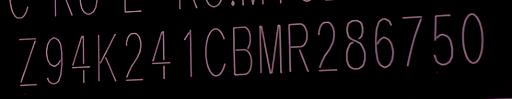letter: (257, 23, 283, 74), (202, 26, 228, 77), (460, 12, 484, 65), (400, 14, 424, 67), (372, 16, 396, 69), (343, 18, 367, 71), (230, 26, 254, 77), (15, 37, 39, 88), (432, 13, 454, 66), (316, 19, 338, 72), (288, 23, 310, 74), (150, 29, 172, 80), (95, 33, 117, 82), (70, 34, 92, 83), (124, 31, 144, 82), (45, 36, 63, 85), (180, 27, 196, 78)
